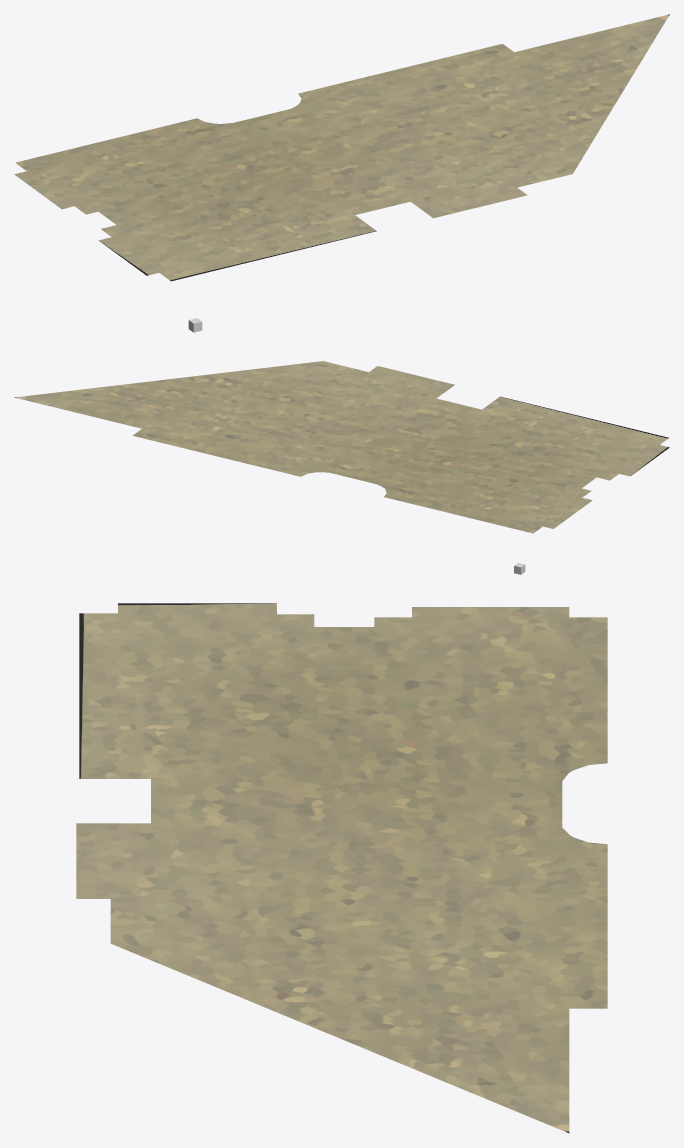
File: floor3.fbx
3 views of the same model, one above another, from view 1: azimuth 30°, elevation 25°; view 2: azimuth 150°, elevation 25°; view 3: azimuth 270°, elevation 25° (orthographic). The views are drawn at different scales.
Parts seen in each view (by area): view 1: Plane.001; view 2: Plane.001; view 3: Plane.001.
Part boxes in pixels (x1=…): Plane.001: x1=14, y1=14, x2=669, y2=281; Plane.001: x1=14, y1=361, x2=669, y2=533; Plane.001: x1=76, y1=603, x2=607, y2=1132.
Bounding box in the file's own units: 15312 × 2910 × 6490.
